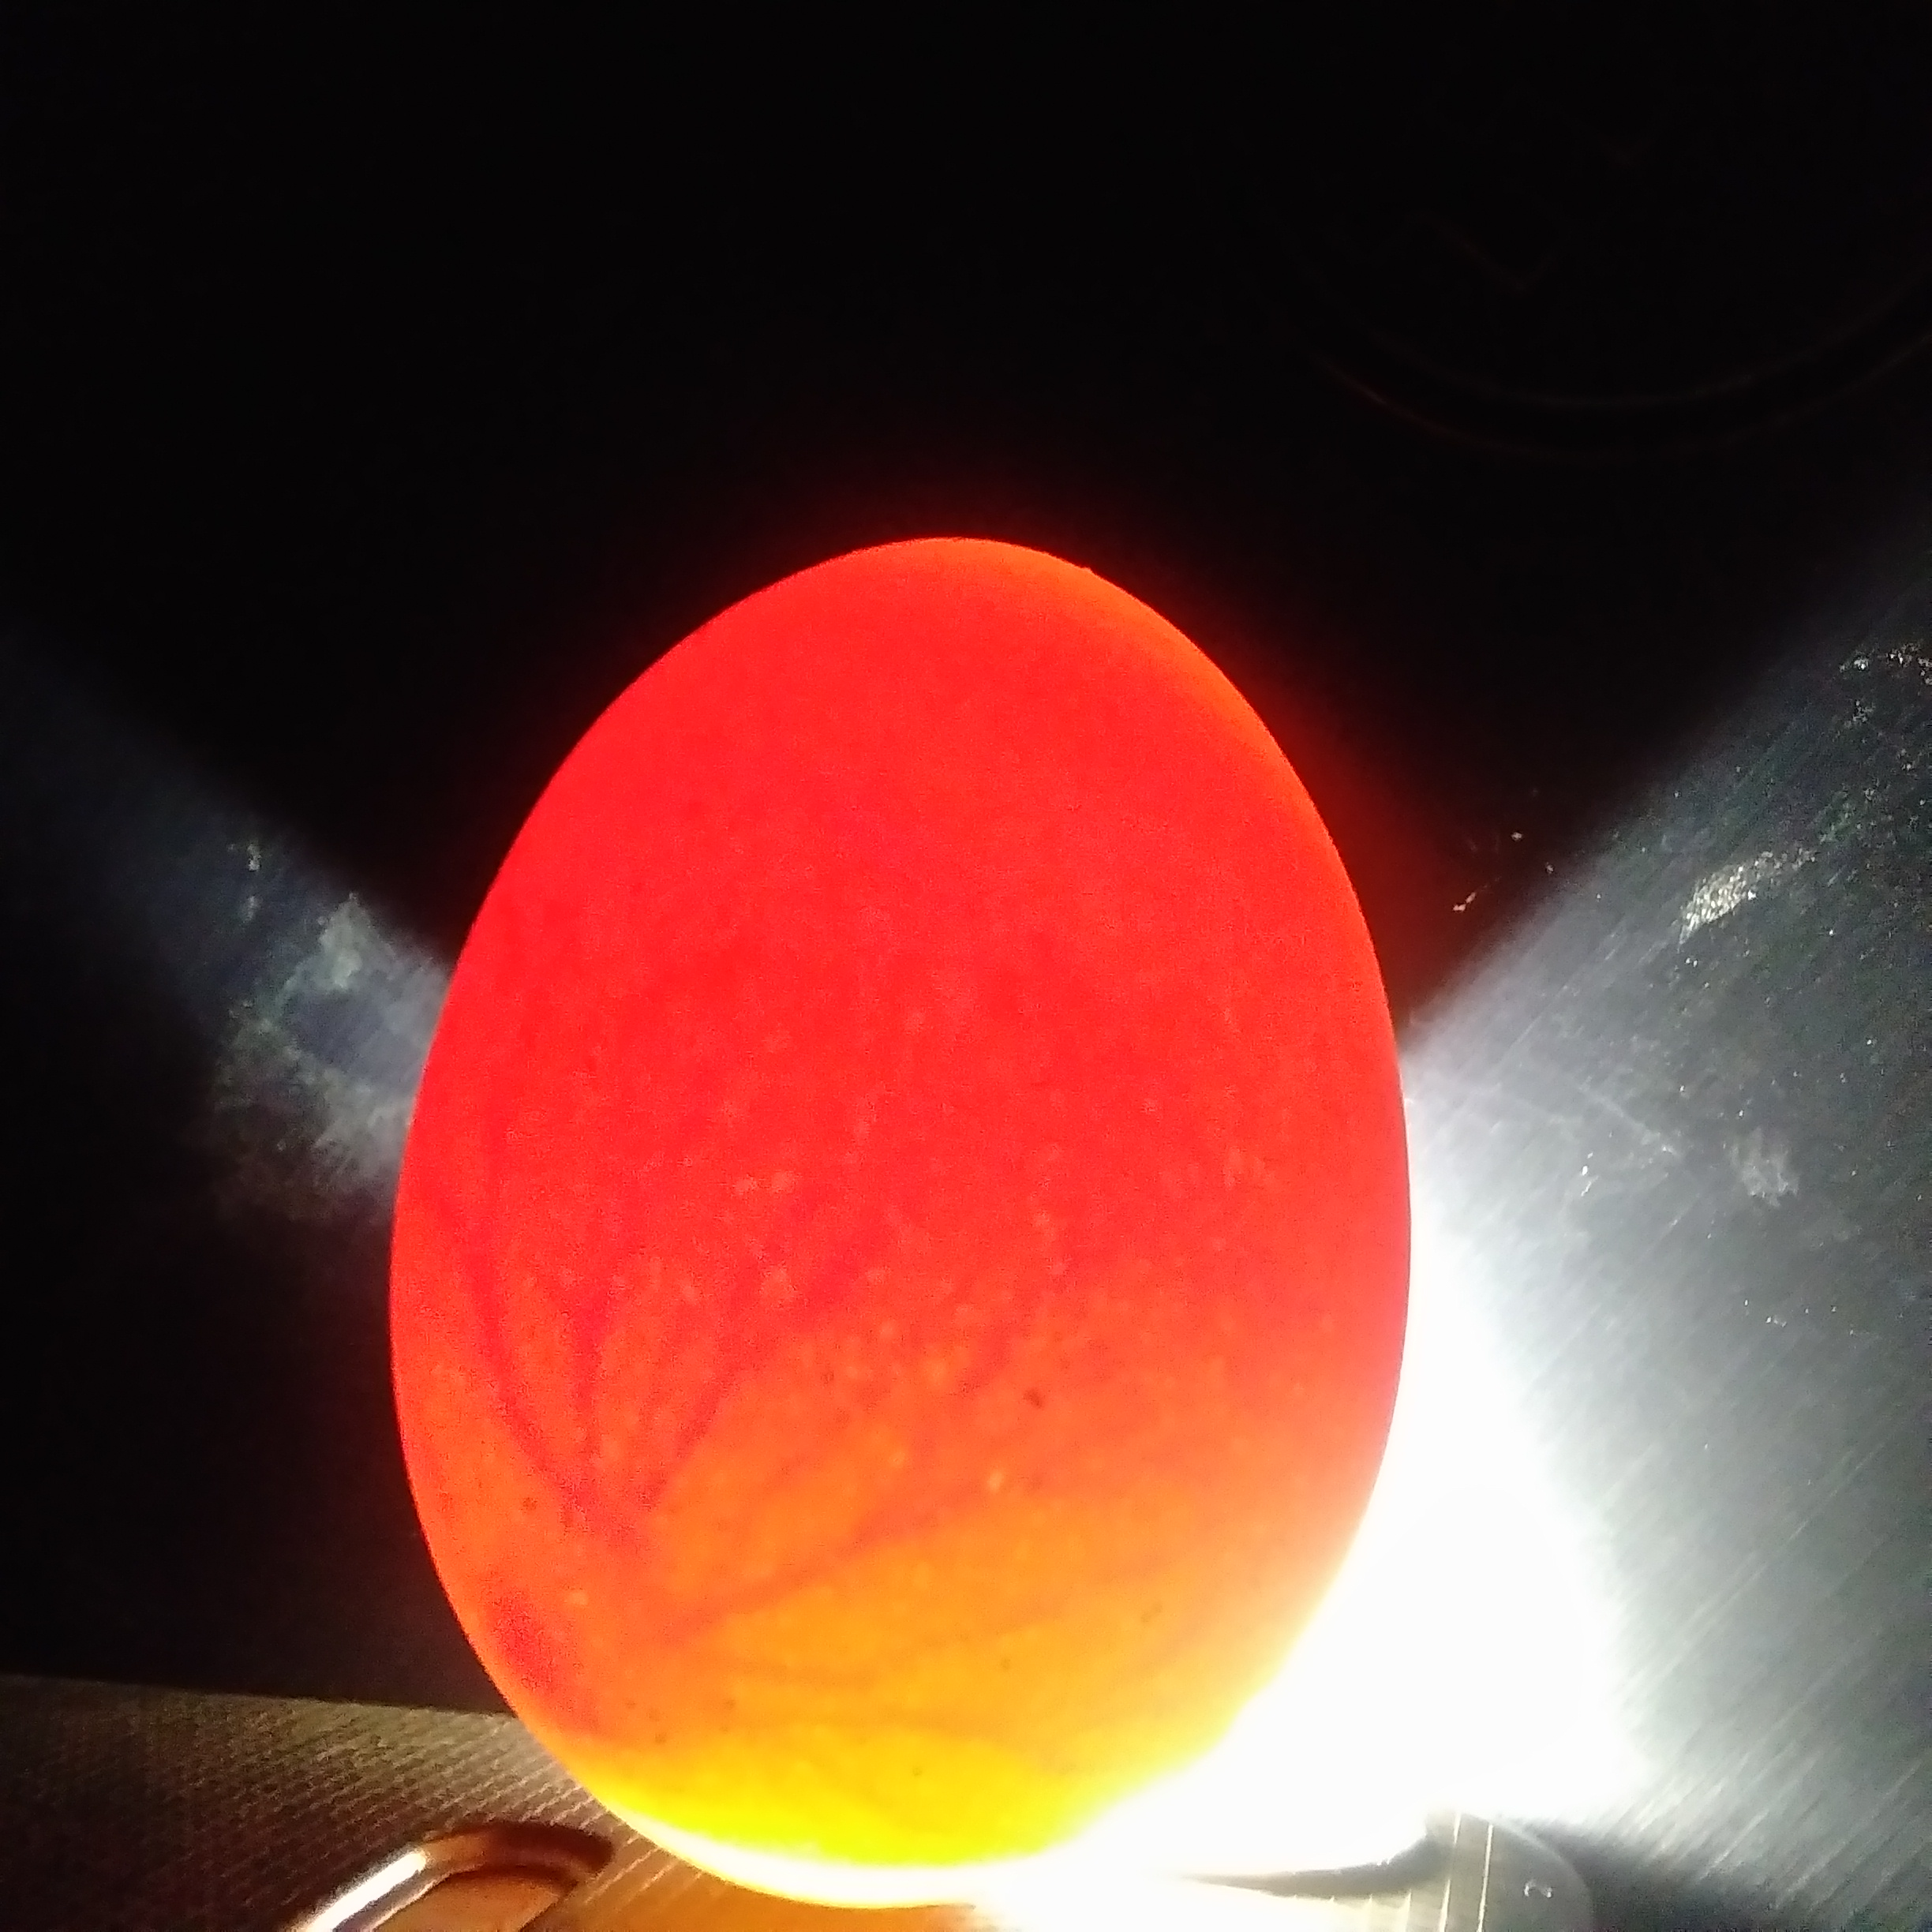bloodcell: (490, 1302, 1226, 1578), (731, 1621, 1116, 1822)
embryo: (531, 1640, 669, 1741)
